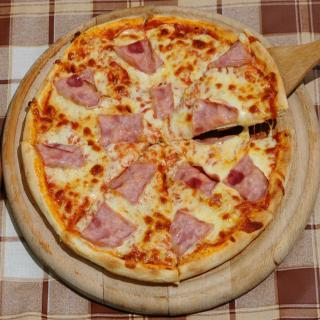Cheese: (22, 13, 290, 284)
Pizza: (12, 9, 304, 294)
